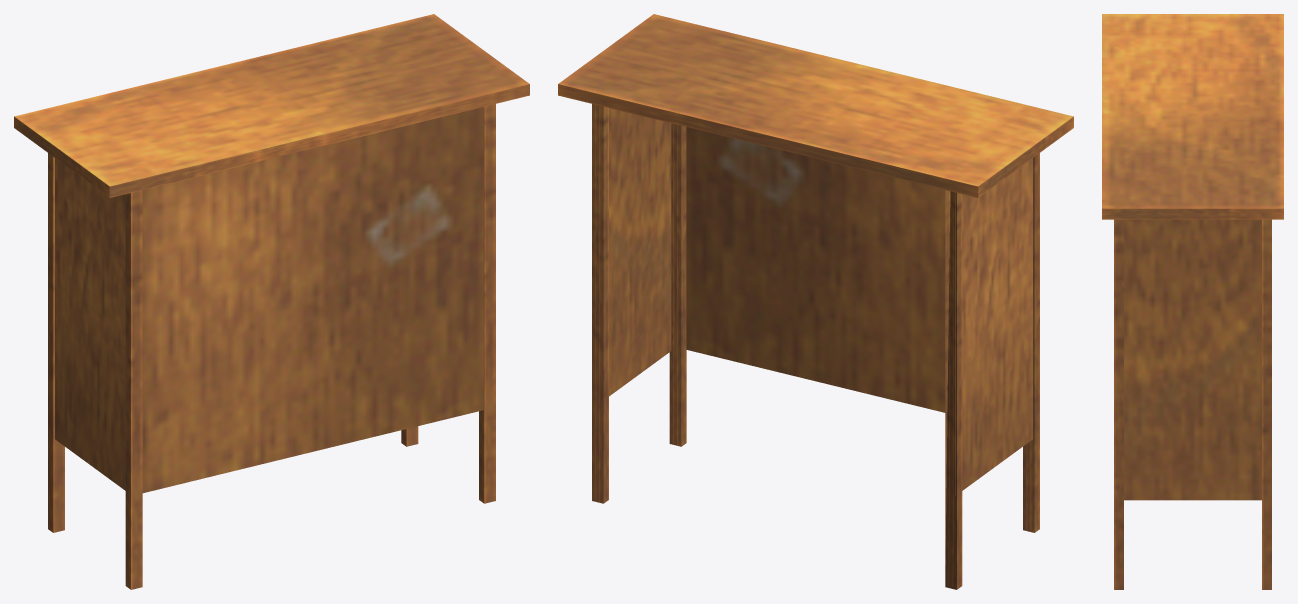
Rendered from table.fbx.
The picture shows the model from 3 angles, left to right: view 1: azimuth 30°, elevation 25°; view 2: azimuth 150°, elevation 25°; view 3: azimuth 270°, elevation 25°; orthographic projection. The views are drawn at different scales.
Visible parts, largest first — view 1: teacher_desk; view 2: teacher_desk; view 3: teacher_desk.
Boxes of the visible parts, x1=… form: teacher_desk: x1=14, y1=14, x2=529, y2=589; teacher_desk: x1=558, y1=14, x2=1073, y2=589; teacher_desk: x1=1102, y1=14, x2=1283, y2=589.
Bounding box in the file's own units: 100 × 94.4 × 39.48.
